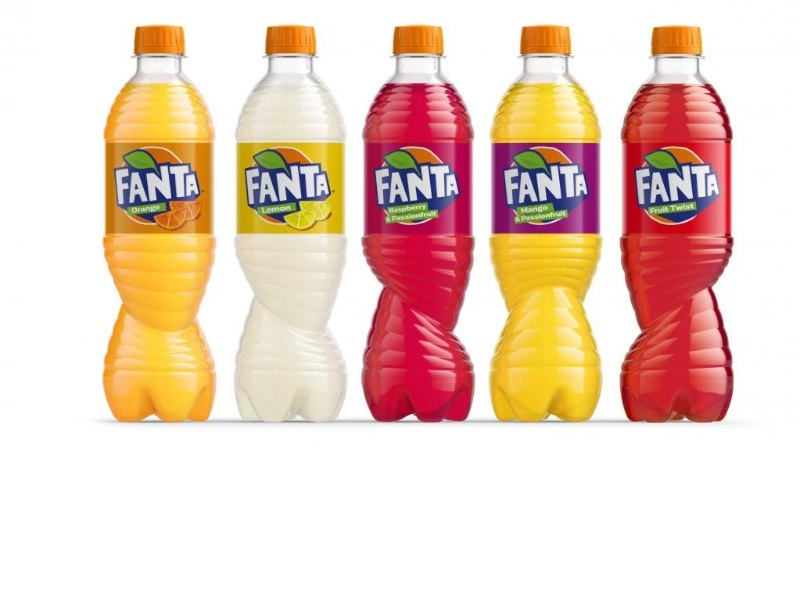lemonade: (65, 11, 240, 441), (612, 8, 759, 437), (217, 14, 359, 437), (348, 11, 483, 436), (482, 12, 615, 439)
